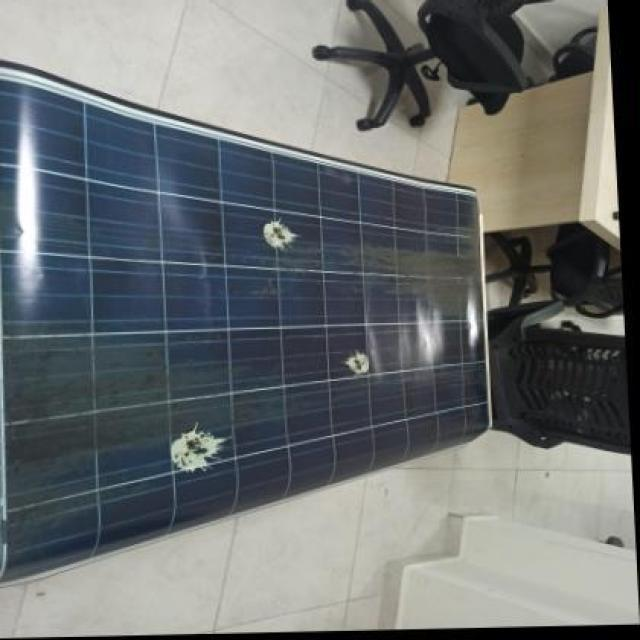soiled: (2, 64, 490, 587)
